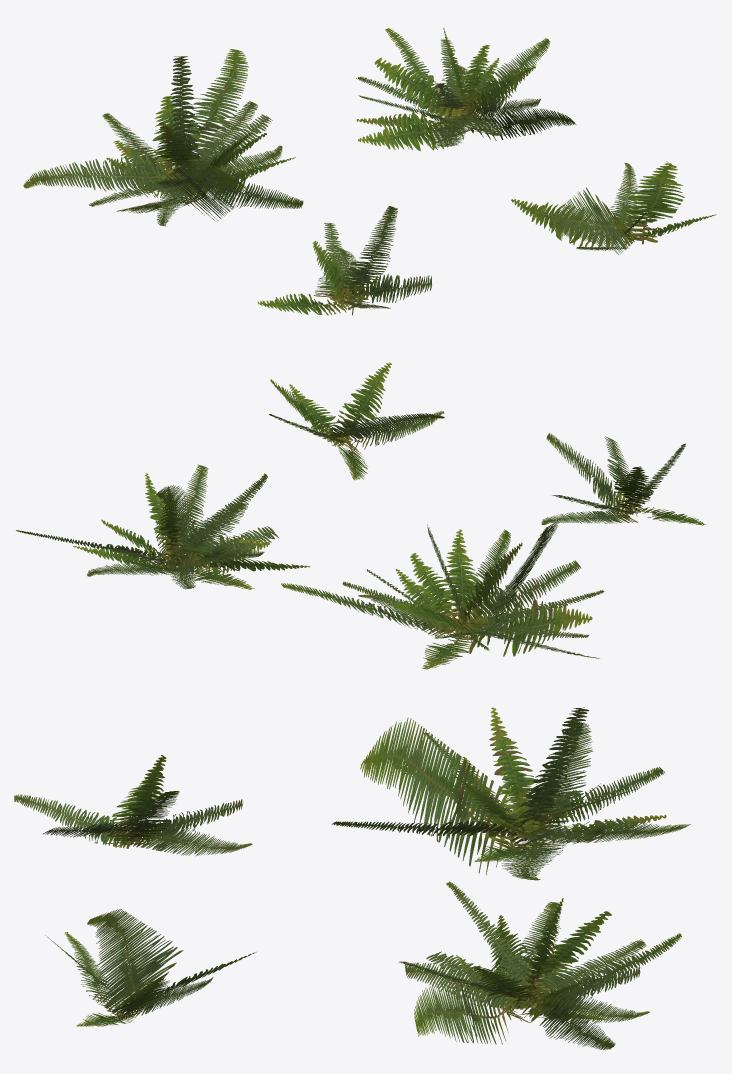
The model's file is fern_02_lod1.glb.
3 renders of one model, top to bottom at view 1: azimuth 30°, elevation 25°; view 2: azimuth 150°, elevation 25°; view 3: azimuth 270°, elevation 25°, orthographic. The views are drawn at different scales.
Parts seen in each view (by area): view 1: fern_02_b; view 2: fern_02_b; view 3: fern_02_b.
Part boxes in pixels (box(x1,y1,x2,y2)): fern_02_b: box(23, 27, 716, 315); fern_02_b: box(16, 362, 706, 669); fern_02_b: box(14, 707, 690, 1050).
Bounding box in the file's own units: 1.99 × 0.5149 × 1.77.
Materials: 1 (1 with a texture image).
